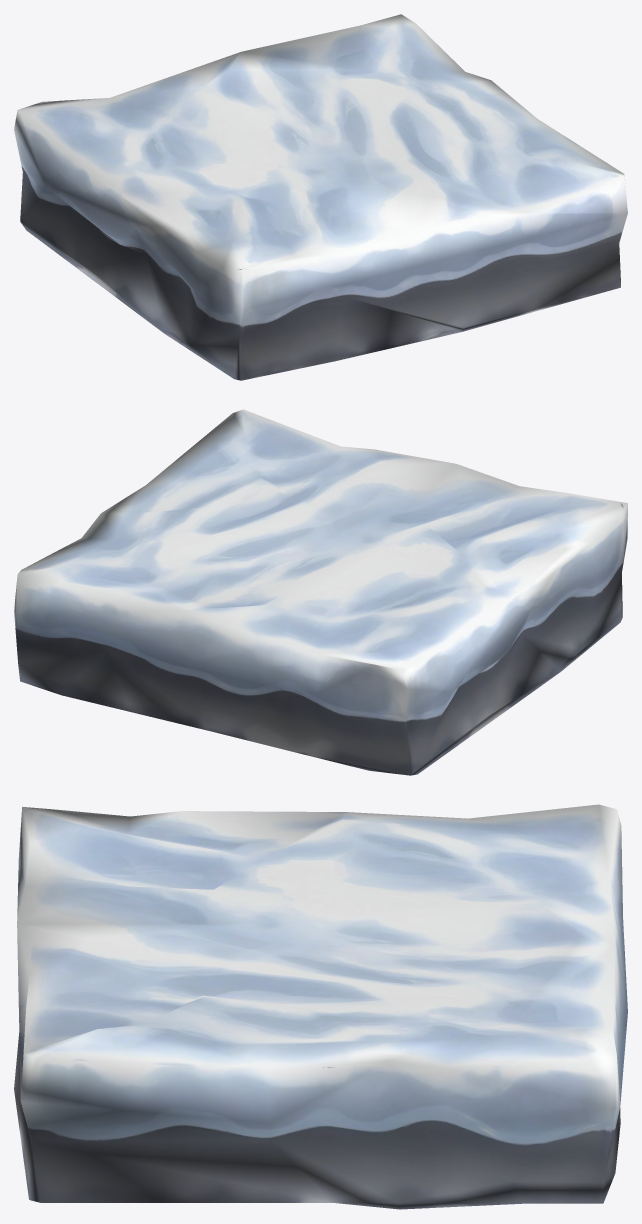
The model's file is gnd_snow.glb.
3 renders of one model, top to bottom at view 1: azimuth 30°, elevation 25°; view 2: azimuth 150°, elevation 25°; view 3: azimuth 270°, elevation 25°, orthographic. The views are drawn at different scales.
Visible parts, largest first — view 1: Mesh0; view 2: Mesh0; view 3: Mesh0.
Part boxes in pixels (x1=…): Mesh0: x1=14, y1=14, x2=627, y2=380; Mesh0: x1=14, y1=409, x2=627, y2=775; Mesh0: x1=14, y1=804, x2=627, y2=1209.
Size of the model in its own units: 1.91 by 0.5354 by 1.9.
Materials: 1 (1 with a texture image).
